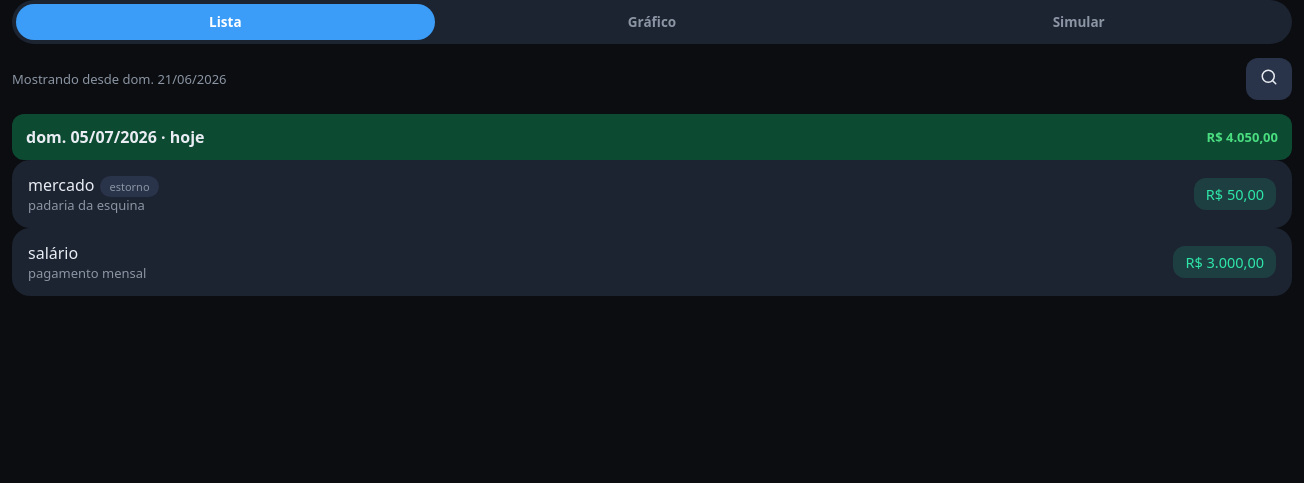
Test case: limpar a busca restaura todos os lançamentos do intervalo
Click the button named "Buscar e filtrar" at (1269, 79), box [1246,58,1292,100]
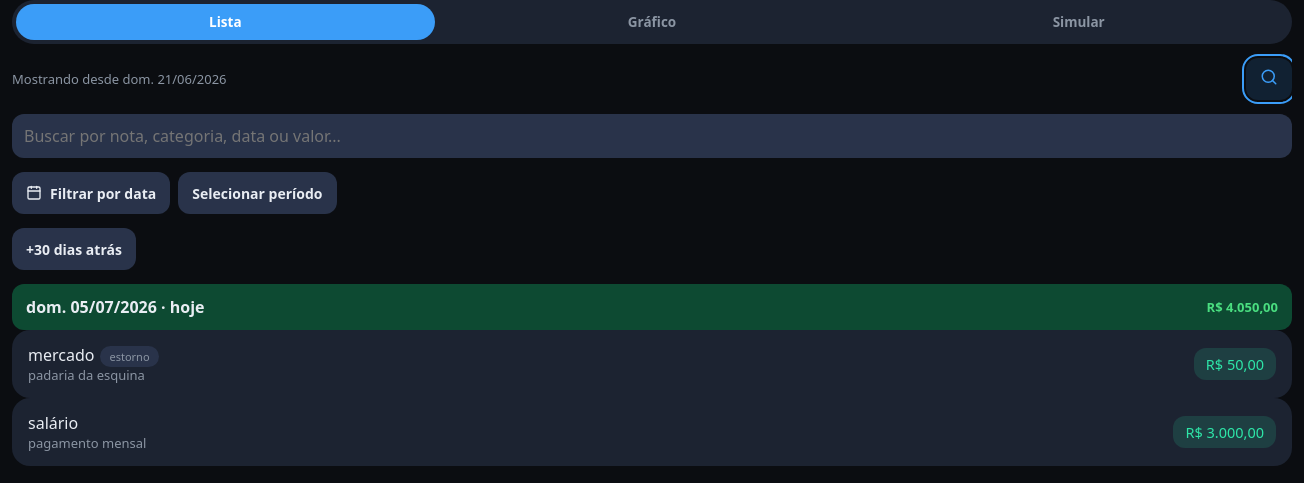
Type "padaria" into the search field with placeholder "Buscar por nota, categoria, data ou valor..." at (652, 136), box [12,114,1292,158]
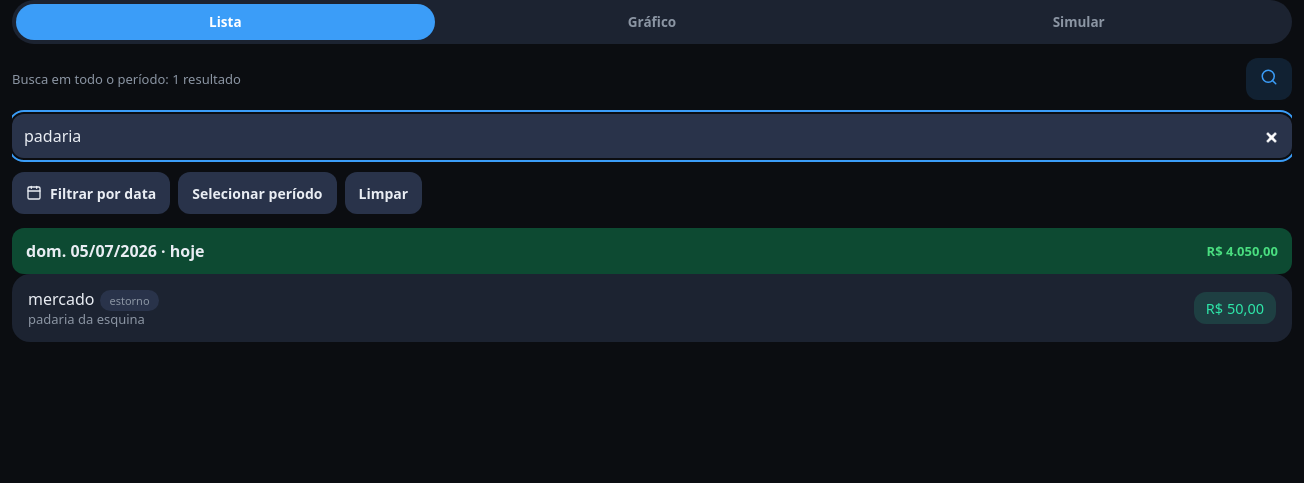
expect the text "padaria da esquina" is shown: met, box [28,310,145,328]
expect the button "pagamento mensal" is gone: met
Clear the search field with placeholder "Buscar por nota, categoria, data ou valor..." at (652, 136), box [12,114,1292,158]
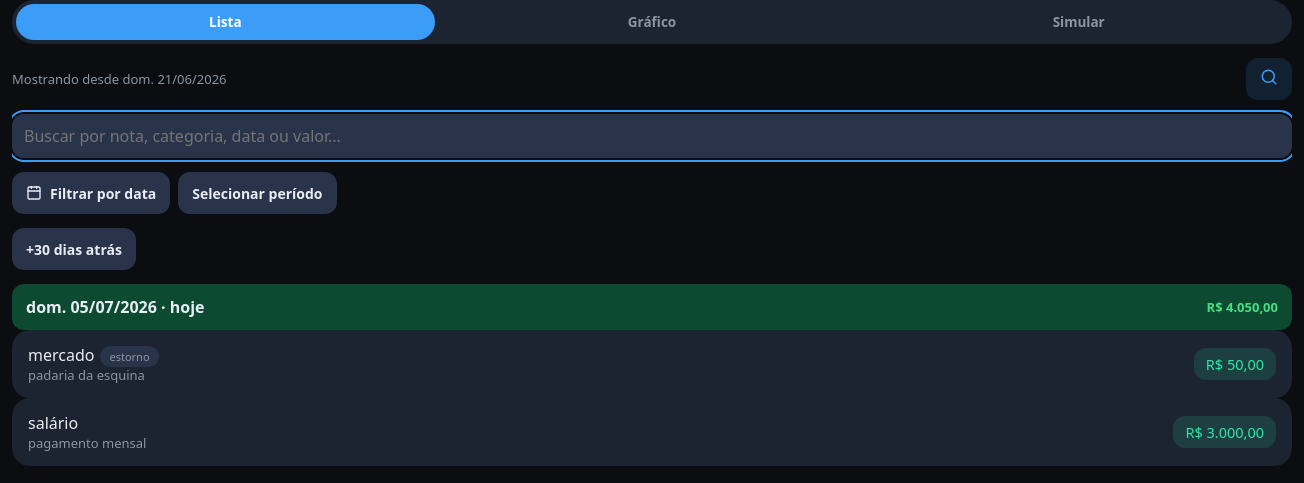
expect the text "padaria da esquina" is shown: met, box [28,366,145,384]
expect the text "pagamento mensal" is shown: met, box [28,434,146,452]
